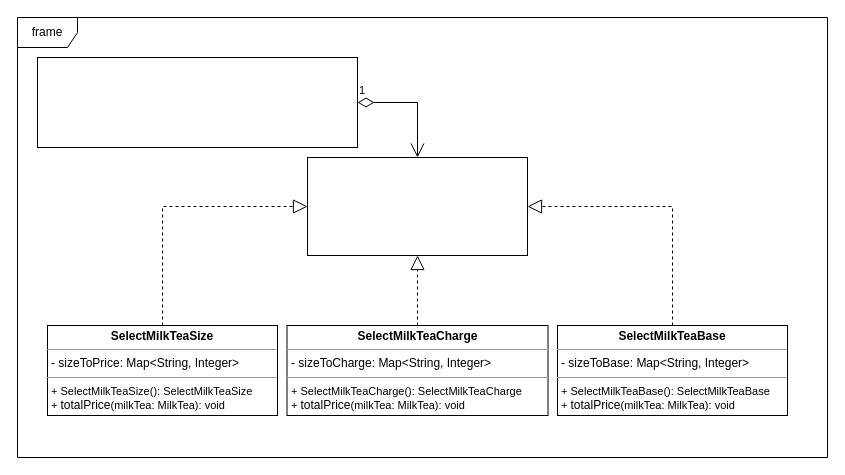
This 845x475 diagram has some shape labels left out. The centre of each missing label's shape, as x and y in pixels:
<<Interface>> Strategy ~ totalPrice(milkTea: MilkTea): void: (417,206)
Context - strategy: Strategy + executeStrategy(milkTea: MilkTea): void: (197,102)
